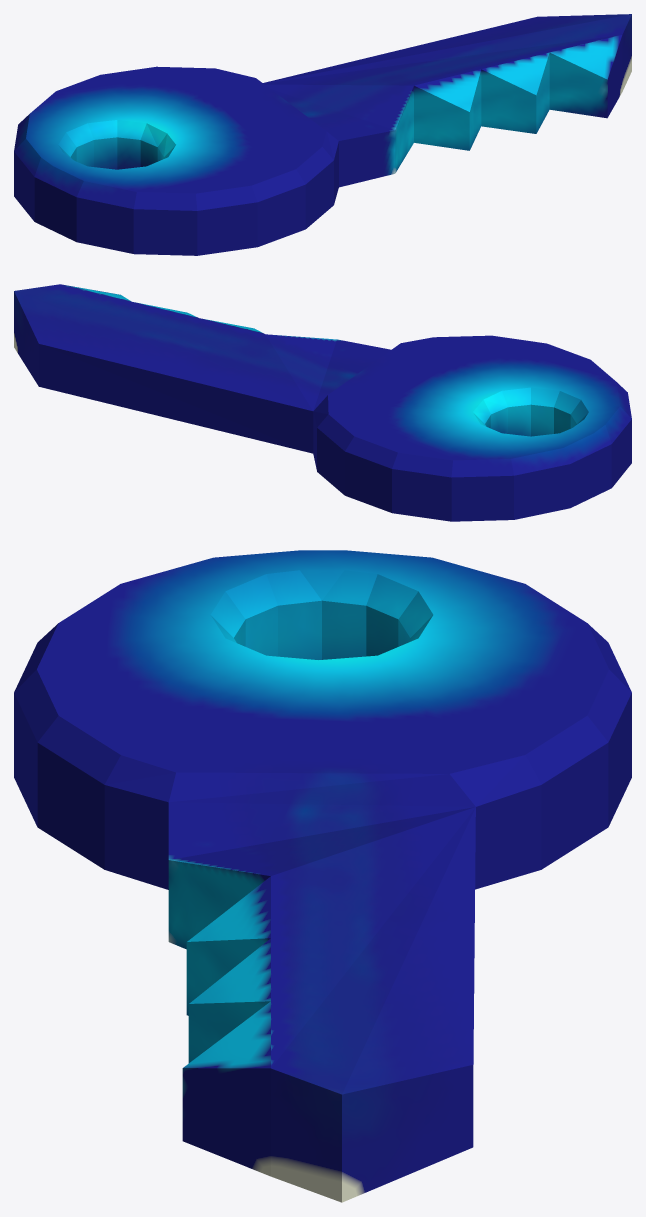
Rendered from model_key.obj.
3 views of the same model, one above another, from view 1: azimuth 30°, elevation 25°; view 2: azimuth 150°, elevation 25°; view 3: azimuth 270°, elevation 25° (orthographic). The views are drawn at different scales.
Parts seen in each view (by area): view 1: Key_Circle; view 2: Key_Circle; view 3: Key_Circle.
Part boxes in pixels (bbox=[...]): Key_Circle: bbox=[14, 14, 631, 255]; Key_Circle: bbox=[14, 284, 631, 521]; Key_Circle: bbox=[14, 550, 631, 1202].
Size of the model in its own units: 0.7448 by 0.0676 by 0.35.
1 material, 1 textured.
